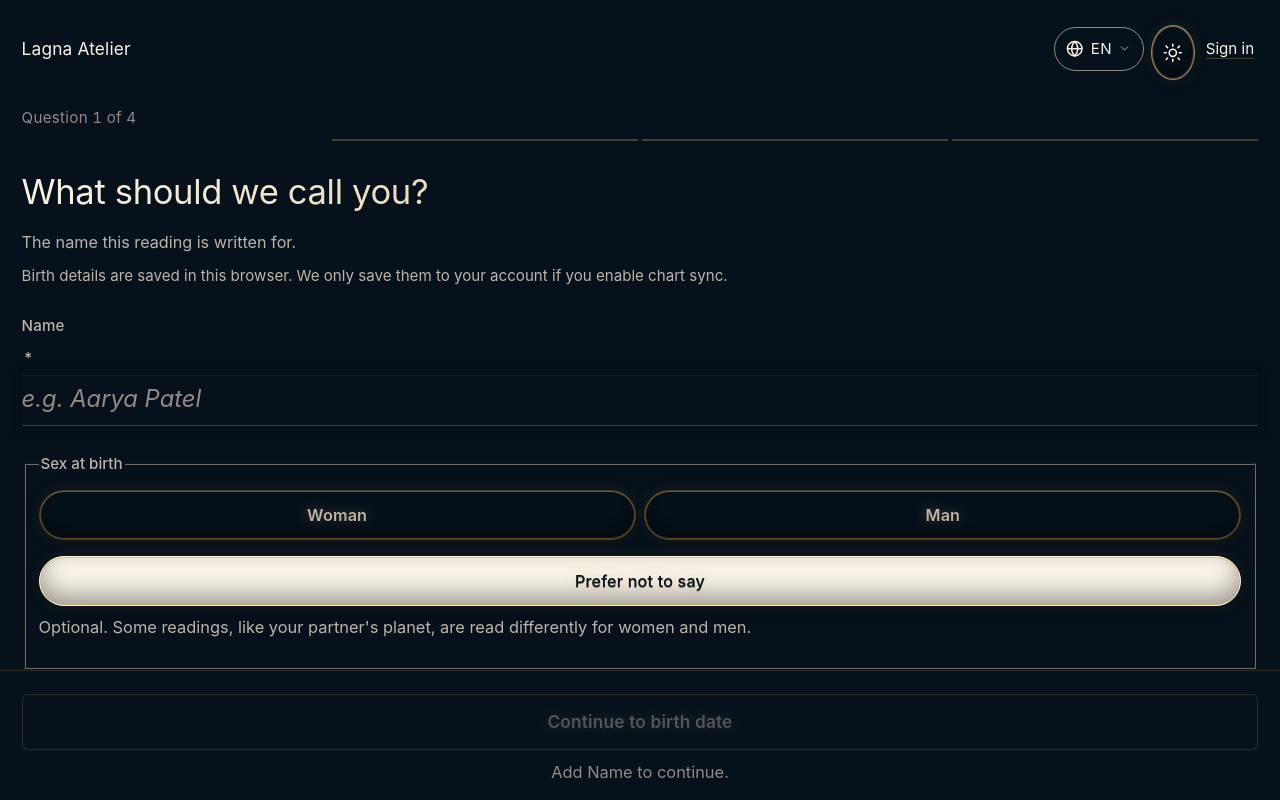
Test case: mobile theme button › is on the intake, and switches the theme the same way
This screenshot has width=1280, height=800.
Click the button named "Switch to light mode" at (1173, 53), box [1151,25,1195,80]
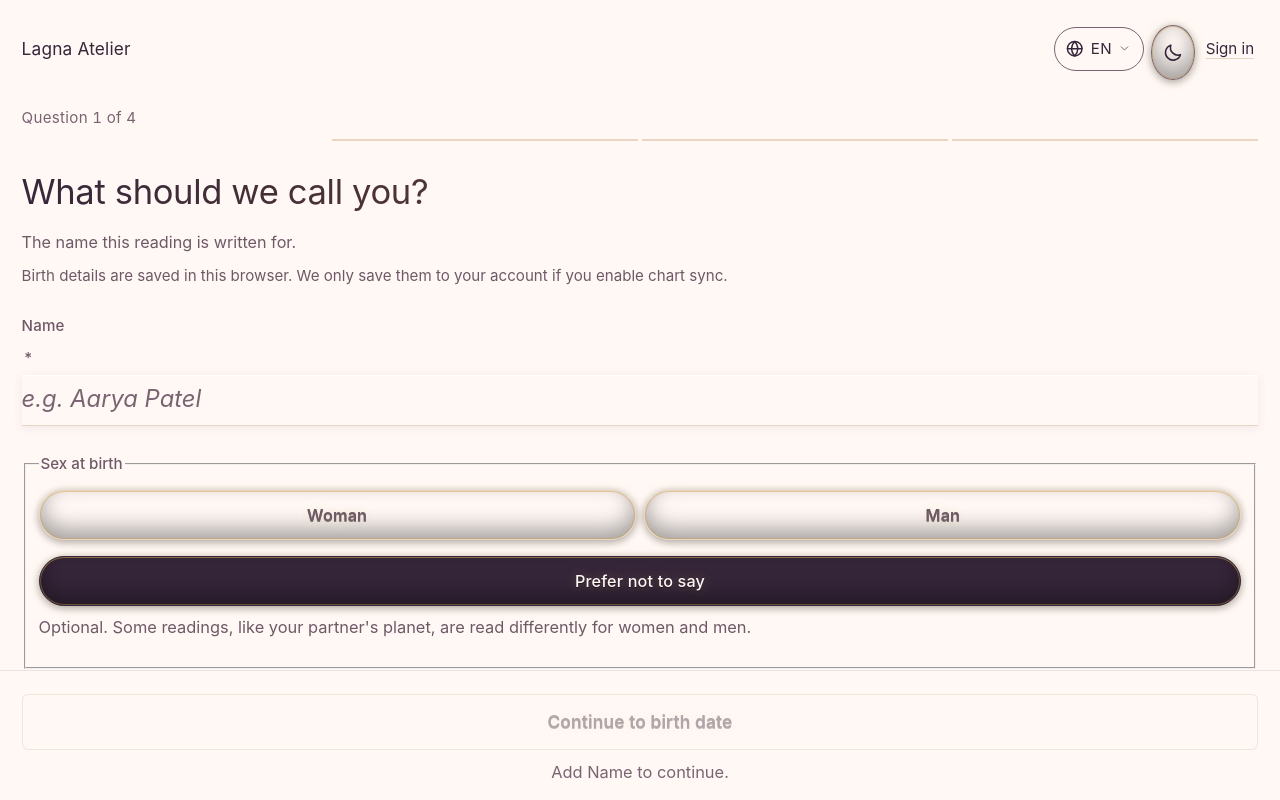
Expected: the button named "Switch to dark mode" is shown, [1151,25,1195,80]
